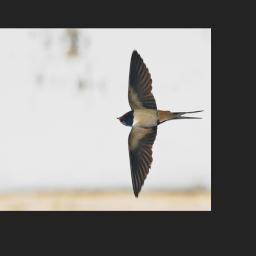Swallow: (116, 46, 205, 200)
